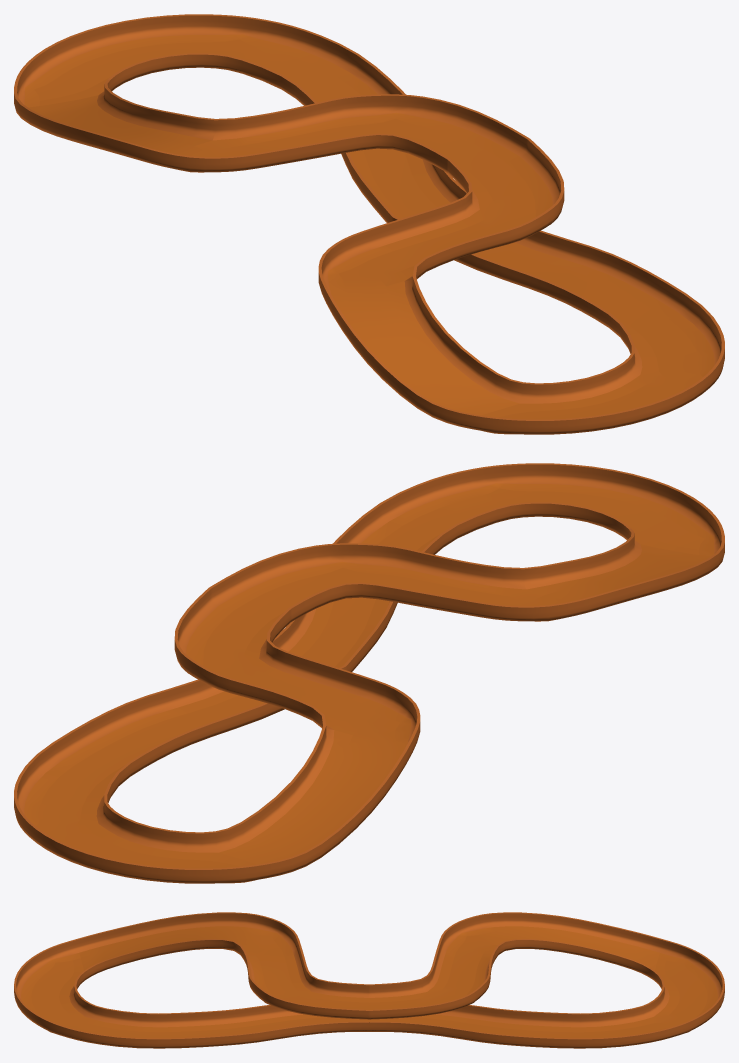
File: track.fbx
The picture shows the model from 3 angles, top to bottom: view 1: azimuth 30°, elevation 25°; view 2: azimuth 150°, elevation 25°; view 3: azimuth 270°, elevation 25°; orthographic projection. The views are drawn at different scales.
Parts seen in each view (by area): view 1: Plane.002; view 2: Plane.002; view 3: Plane.002.
Boxes of the visible parts, x1,y1,x2,y2 form: Plane.002: [14, 14, 724, 434]; Plane.002: [14, 463, 724, 883]; Plane.002: [14, 912, 724, 1048].
Size of the model in its own units: 235 by 43.97 by 669.
